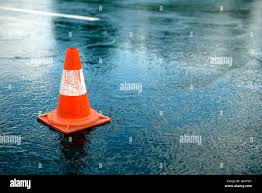cone: (38, 47, 112, 138)
